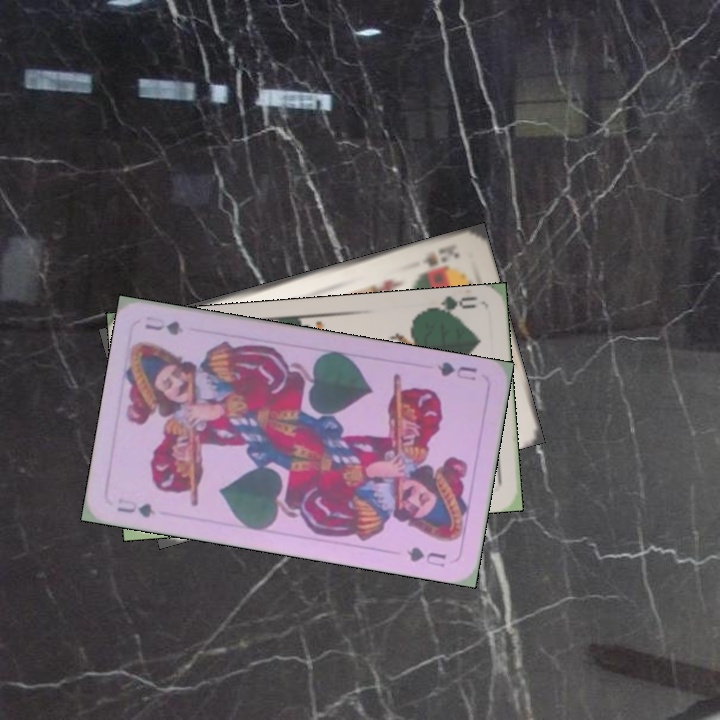GO: (422, 292, 480, 320)
GU: (113, 494, 158, 521), (433, 358, 480, 383)
SK: (418, 240, 463, 270)
